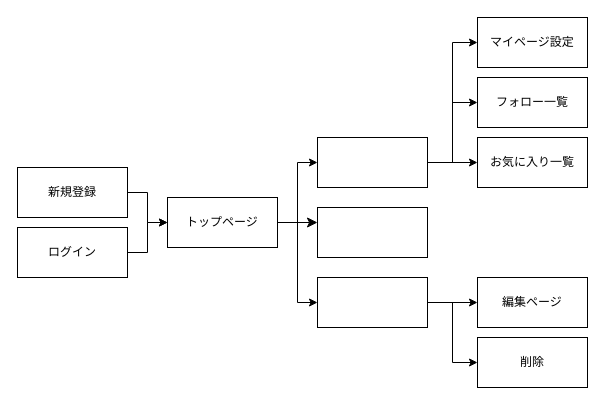
This 605x405 diagram has some shape labels left out. Here are the shapes that lost their labels. From the top down, the box of each, then its label:
(316, 136, 428, 188): マイページ
(316, 206, 428, 258): 投稿ページ
(316, 276, 428, 328): 詳細ページ
